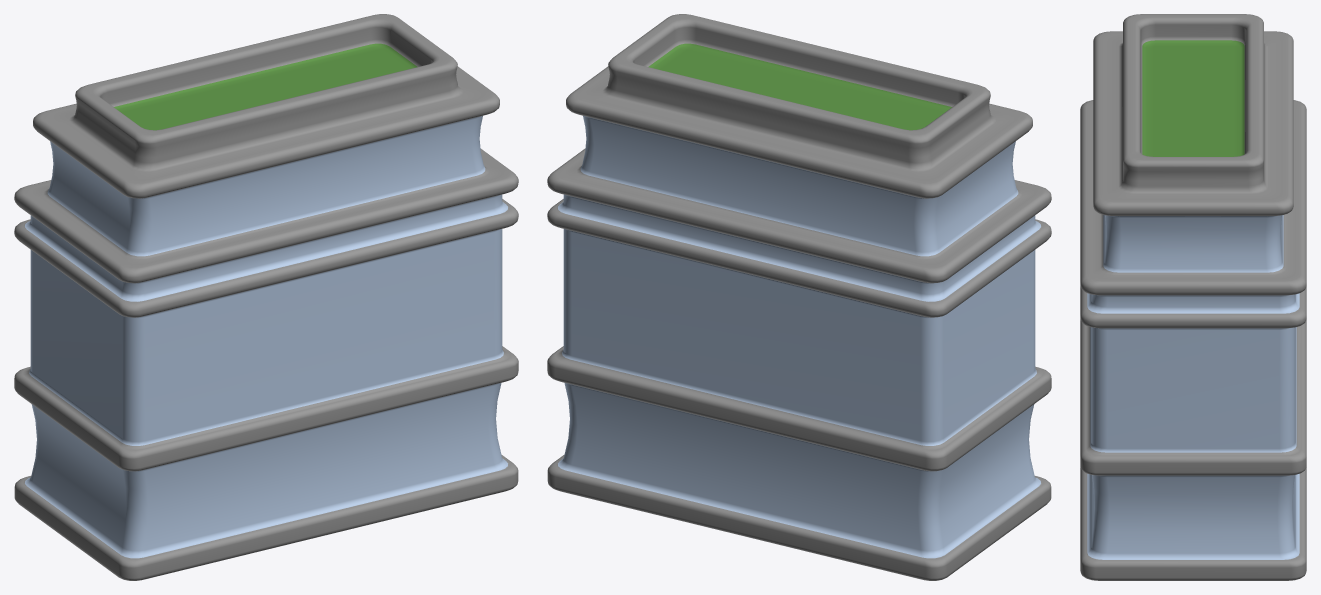
Rendered from SM_Building_05_Part_09.fbx.
The picture shows the model from 3 angles, left to right: view 1: azimuth 30°, elevation 25°; view 2: azimuth 150°, elevation 25°; view 3: azimuth 270°, elevation 25°; orthographic projection. The views are drawn at different scales.
Parts seen in each view (by area): view 1: SM_Building_05_Part_09; view 2: SM_Building_05_Part_09; view 3: SM_Building_05_Part_09.
Boxes of the visible parts, x1=… form: SM_Building_05_Part_09: x1=14, y1=14, x2=518, y2=580; SM_Building_05_Part_09: x1=547, y1=14, x2=1051, y2=580; SM_Building_05_Part_09: x1=1080, y1=14, x2=1306, y2=580.
Size of the model in its own units: 3994 by 4022 by 2050.
